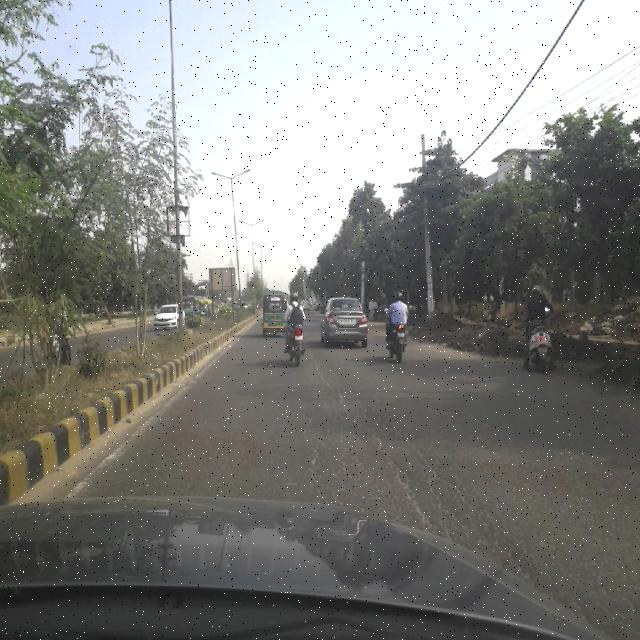D00: (326, 372, 429, 529)
D20: (295, 374, 549, 546)
